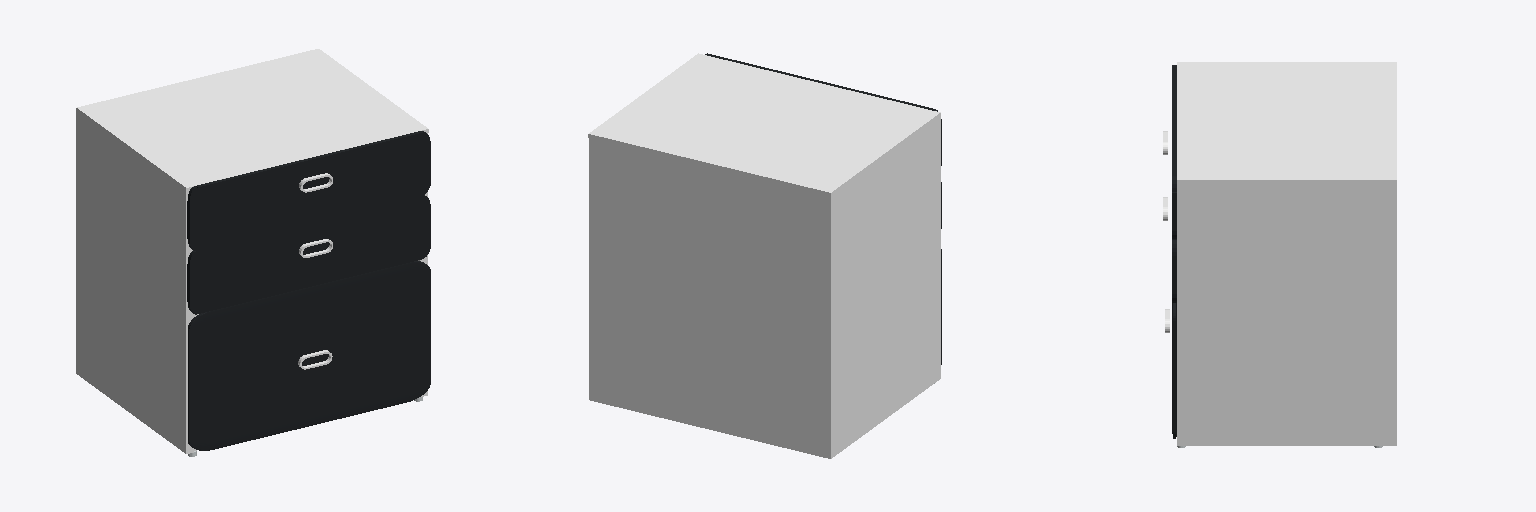
The model's file is StorageFurniture_StuvaFritidsChestBlack.obj.
3 renders of one model, left to right at view 1: azimuth 30°, elevation 25°; view 2: azimuth 150°, elevation 25°; view 3: azimuth 270°, elevation 25°, orthographic.
Parts seen in each view (by area): view 1: obj_0; view 2: obj_0; view 3: obj_0.
Boxes of the visible parts, x1,y1,x2,y2 form: obj_0: [76, 49, 430, 456]; obj_0: [588, 53, 941, 458]; obj_0: [1163, 62, 1396, 447].
Size of the model in its own units: 60 by 64 by 50.